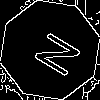N: (25, 25, 82, 79)
